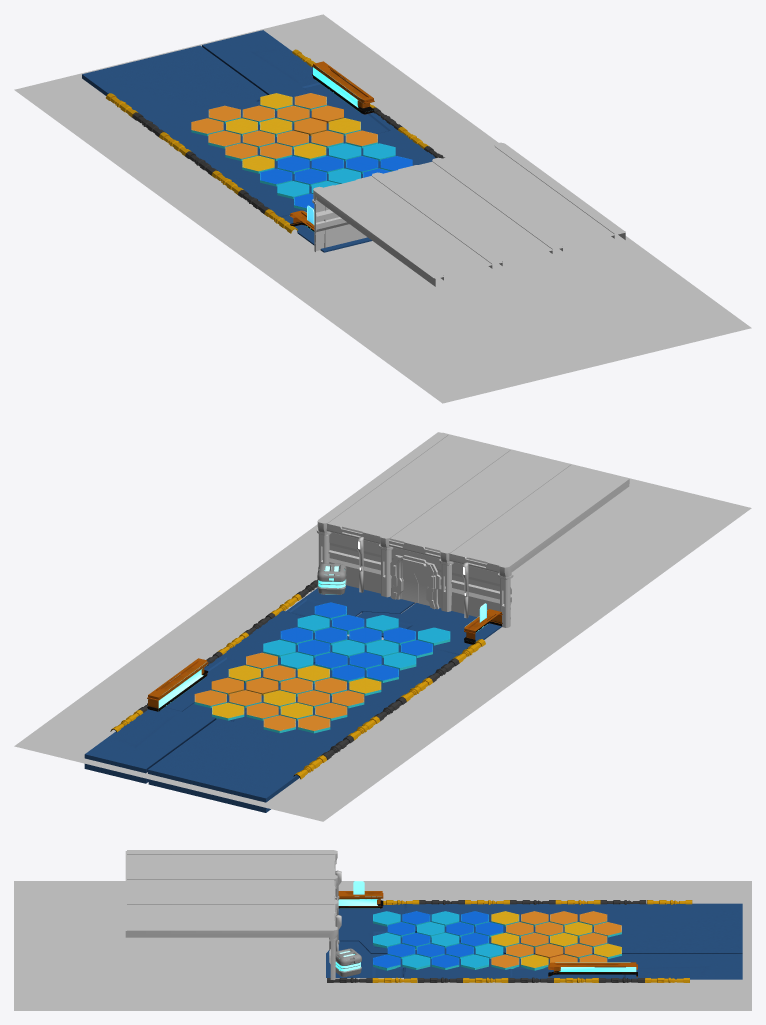
File: Arena.fbx
3 renders of one model, top to bottom at view 1: azimuth 30°, elevation 25°; view 2: azimuth 150°, elevation 25°; view 3: azimuth 270°, elevation 25°, orthographic. The views are drawn at different scales.
Parts seen in each view (by area): view 1: Plane.001; view 2: Plane.001; view 3: Plane.001.
Part boxes in pixels (<box>): Plane.001: <box>14,14,751,403</box>; Plane.001: <box>14,432,751,821</box>; Plane.001: <box>14,850,751,1010</box>.
Size of the model in its own units: 1932 by 441 by 4638.
